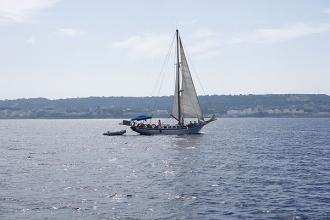fanchuan: (130, 26, 222, 135)
otherboat: (99, 126, 128, 137)
